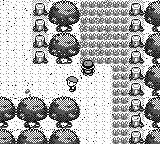captura: (79, 0, 128, 143)
main: (80, 61, 96, 76)
no-caminable: (1, 97, 79, 143), (145, 1, 160, 142), (49, 1, 80, 65), (130, 2, 144, 143), (32, 0, 49, 65)
npc: (66, 76, 78, 92)
